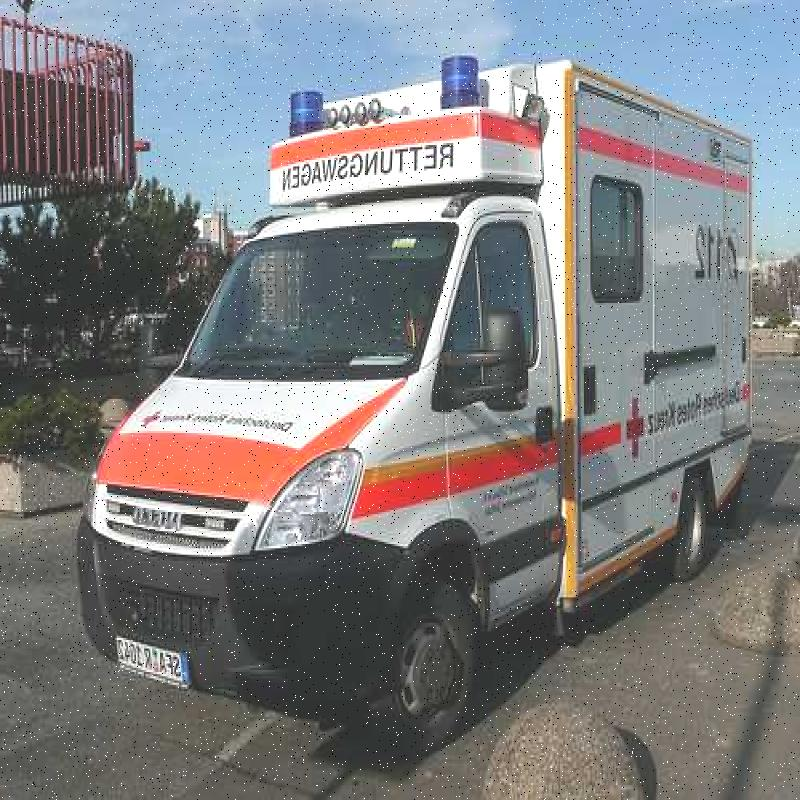AmbulanceSiren: (260, 30, 494, 138)
